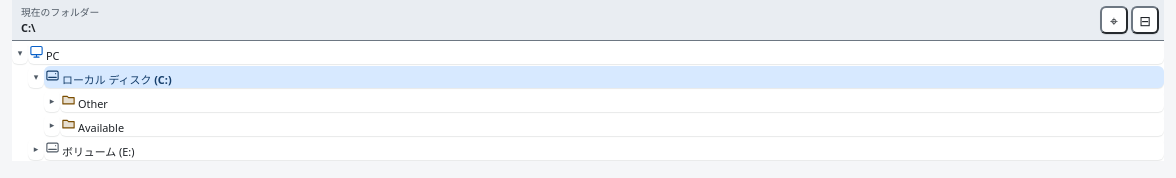
FolderTree › keeps a branch-local error without removing other nodes
Click the button named "Otherを展開する": x=52, y=101 x1=44 y1=90 x2=60 y2=112
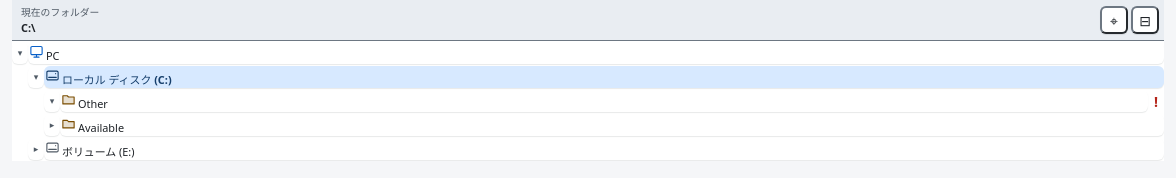
expect the list item "Available" is shown: met, box x1=60 y1=114 x2=1164 y2=136
expect the text titled "アクセスできません。権限または他のアプリによる使用状況を確認してください。" is shown: met, box x1=1154 y1=92 x2=1158 y2=110
